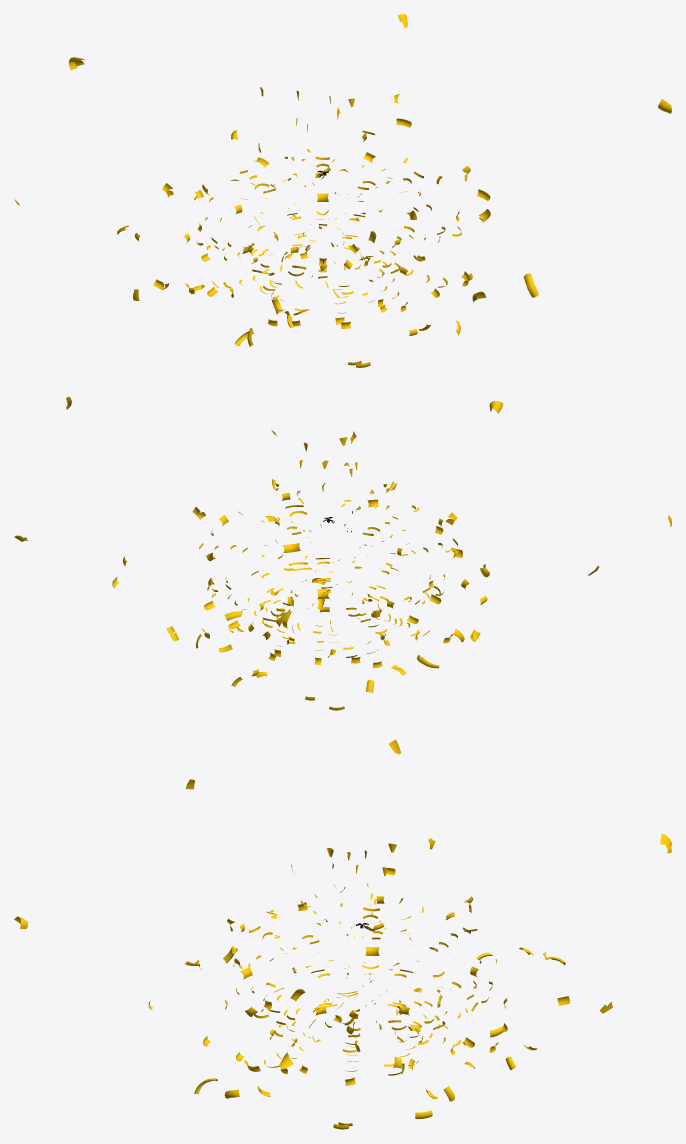
The picture shows the model from 3 angles, top to bottom: view 1: azimuth 30°, elevation 25°; view 2: azimuth 150°, elevation 25°; view 3: azimuth 270°, elevation 25°; orthographic projection. The views are drawn at different scales.
Parts seen in each view (by area): view 1: Torus.006; view 2: Torus.006; view 3: Torus.006.
Boxes of the visible parts, x1=… form: Torus.006: x1=14, y1=14, x2=671, y2=367; Torus.006: x1=14, y1=396, x2=671, y2=710; Torus.006: x1=14, y1=739, x2=671, y2=1129.
Size of the model in its own units: 1211 by 419 by 1100.
